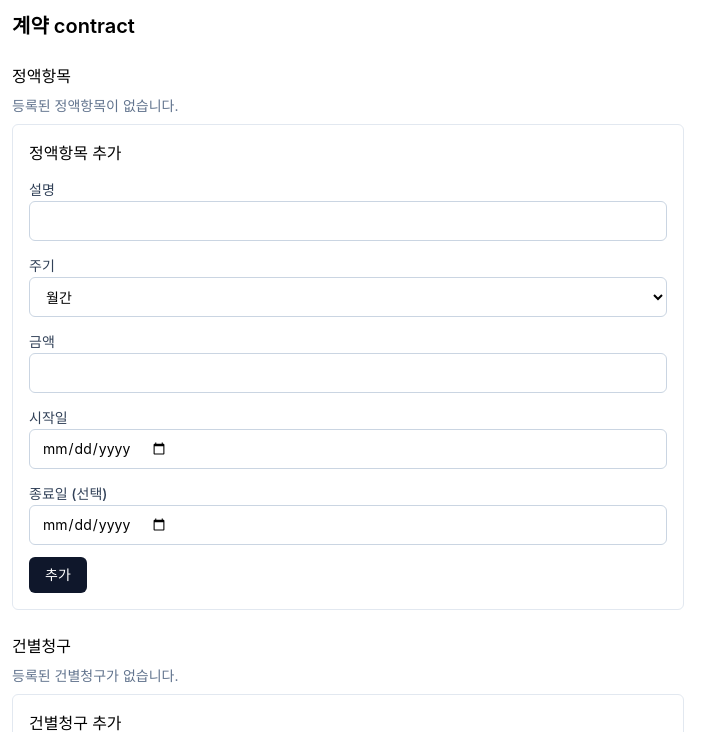
Test: ContractDetailPage › adds a recurring item and shows it in the list
Expected: the list item "등록된 정액항목이 없습니다." is shown, [12,97,178,114]
Type "월 이용료" into the field labelled "설명" at coordinates (348, 221), box [29,201,667,241]
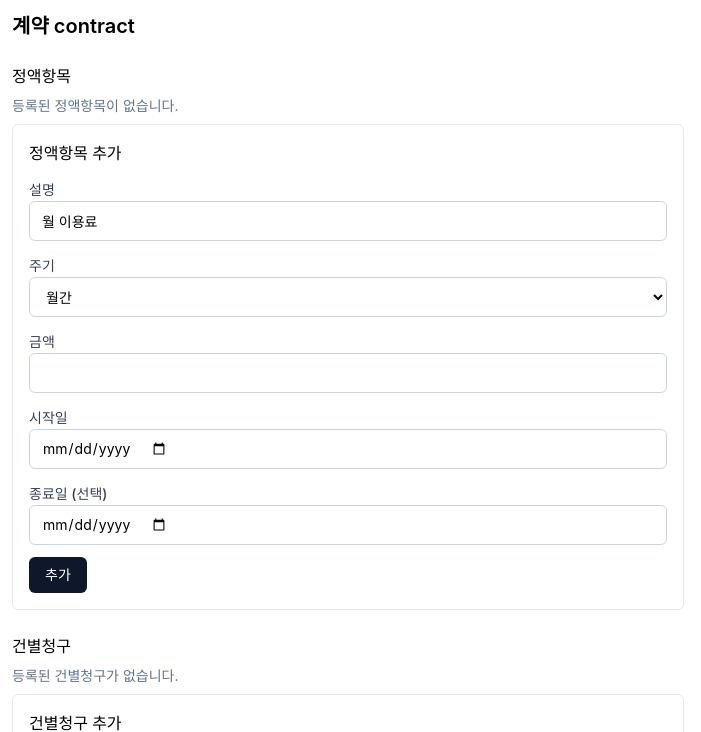
Type "100000" into the number field labelled "금액" at coordinates (348, 373), box [29,353,667,393]
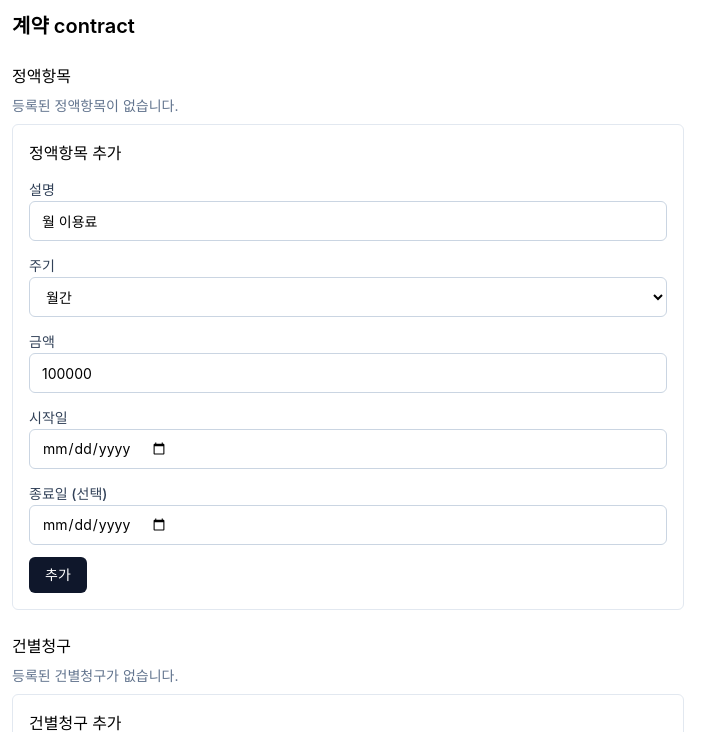
Type "2026-07-01" into the date field labelled "시작일" at coordinates (348, 449), box [29,429,667,469]
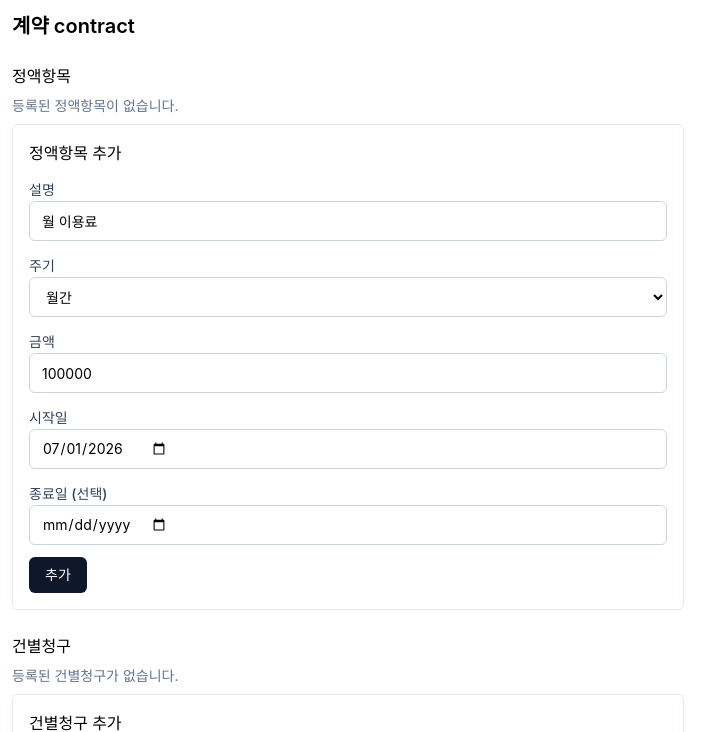
Click the button "추가" at coordinates (58, 575), box [29,557,87,593]
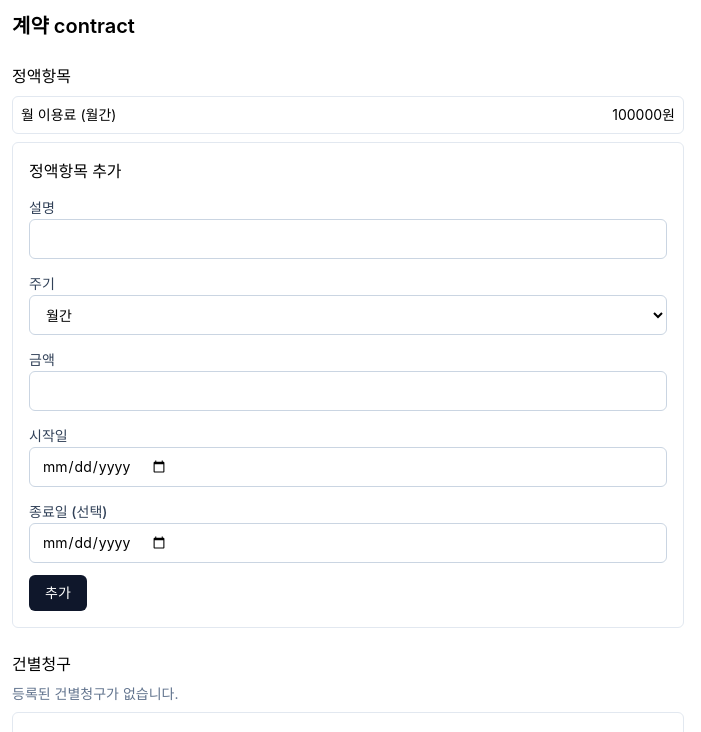
Result: the text "월 이용료 (월간)" is shown at [21,105,116,125]
